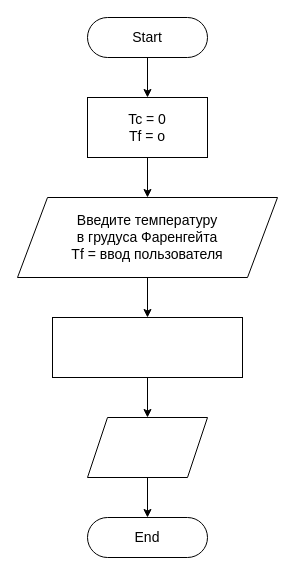
This 295x575 diagram has some shape labels left out. Each missing label, with the centre of its shape:
Tc = ((Tf -32) * 5 ) / 9: the point at 147,347
Вывод Tc: the point at 147,447
